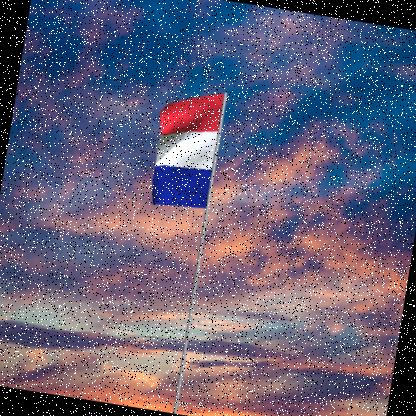fr: (146, 86, 225, 215)
